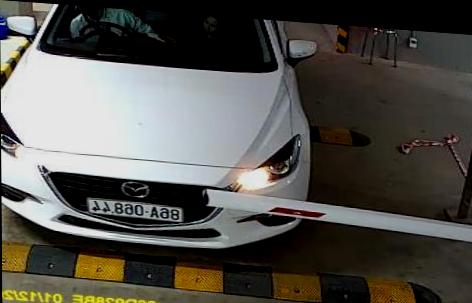License_Plate: (86, 195, 183, 223)
